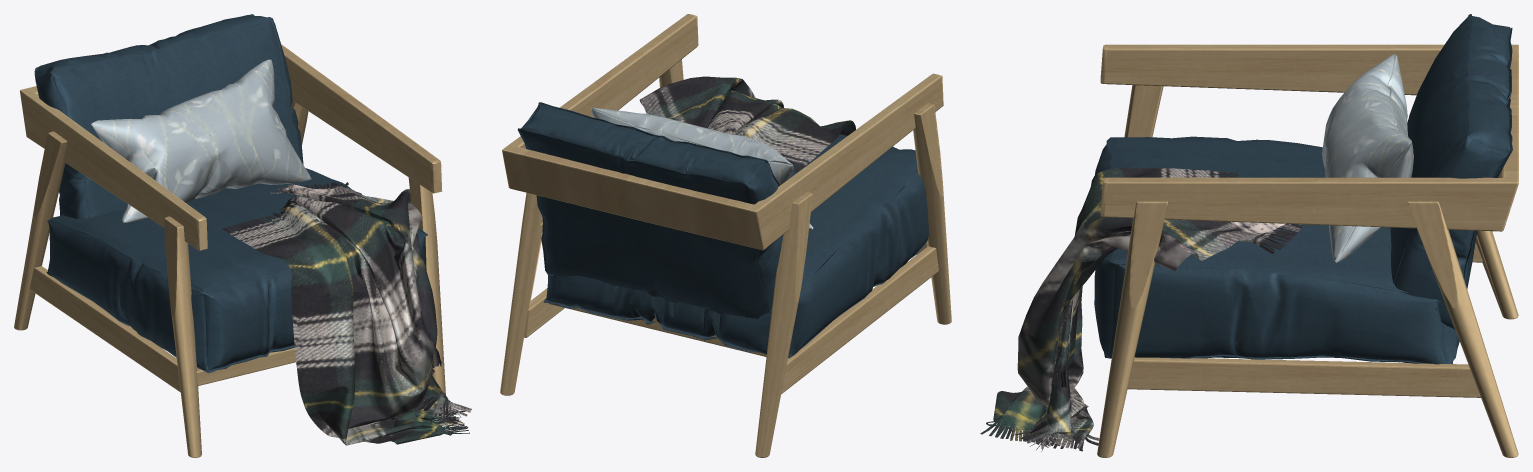
Rendered from raw_model.obj.
The picture shows the model from 3 angles, left to right: view 1: azimuth 30°, elevation 25°; view 2: azimuth 150°, elevation 25°; view 3: azimuth 270°, elevation 25°; orthographic projection. The views are drawn at different scales.
Parts seen in each view (by area): view 1: solid_001, solid_003, solid_002, solid_004; view 2: solid_001, solid_002, solid_003, solid_004; view 3: solid_002, solid_001, solid_003, solid_004.
Part boxes in pixels (x1=…): solid_001: x1=34, y1=14, x2=427, y2=373; solid_003: x1=222, y1=181, x2=471, y2=445; solid_002: x1=14, y1=44, x2=445, y2=457; solid_004: x1=91, y1=59, x2=311, y2=222; solid_001: x1=517, y1=102, x2=928, y2=358; solid_002: x1=500, y1=14, x2=951, y2=457; solid_003: x1=639, y1=76, x2=855, y2=172; solid_004: x1=591, y1=107, x2=813, y2=230; solid_002: x1=1097, y1=44, x2=1518, y2=457; solid_001: x1=1094, y1=14, x2=1512, y2=364; solid_003: x1=980, y1=168, x2=1302, y2=451; solid_004: x1=1322, y1=54, x2=1413, y2=262.
Bounding box in the file's own units: 0.7146 × 0.6815 × 1.07.
Materials: 1 (1 with a texture image).
